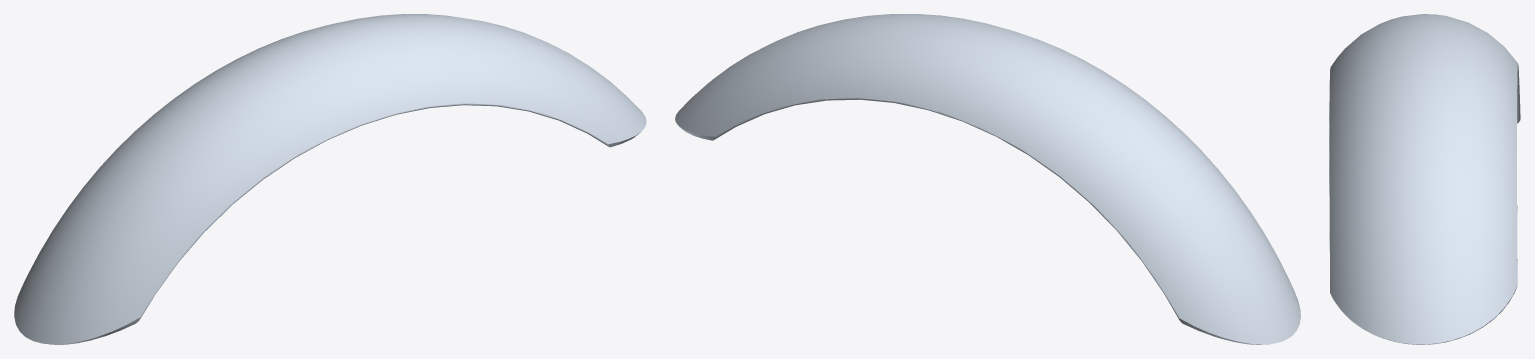
The model's file is RB-034_viewer.glb.
3 renders of one model, left to right at view 1: azimuth 30°, elevation 25°; view 2: azimuth 150°, elevation 25°; view 3: azimuth 270°, elevation 25°, orthographic. The views are drawn at different scales.
Parts seen in each view (by area): view 1: basebody_imported1; view 2: basebody_imported1; view 3: basebody_imported1.
Part boxes in pixels (bbox=[...]): basebody_imported1: bbox=[14, 14, 646, 344]; basebody_imported1: bbox=[675, 14, 1300, 344]; basebody_imported1: bbox=[1329, 14, 1520, 344].
Size of the model in its own units: 0.0313 by 0.0111 by 0.00824.
